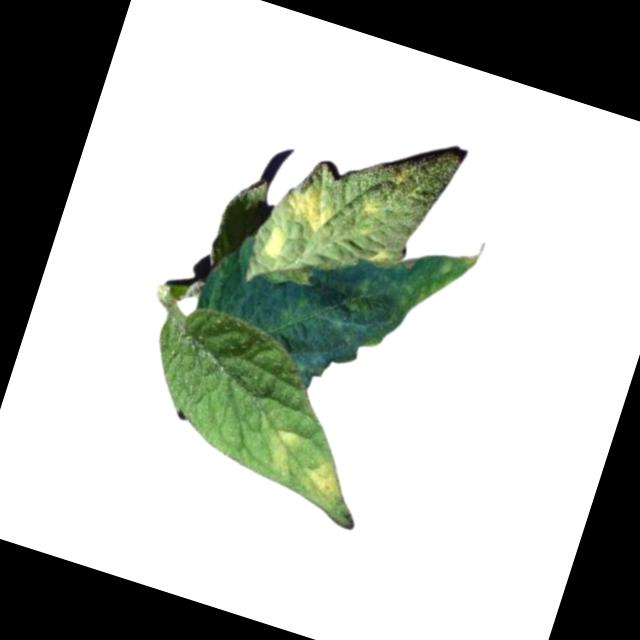Leaf_Mold: (388, 233, 476, 327), (274, 172, 341, 236), (291, 448, 354, 512), (256, 419, 305, 478), (255, 223, 291, 267), (352, 189, 388, 222)
